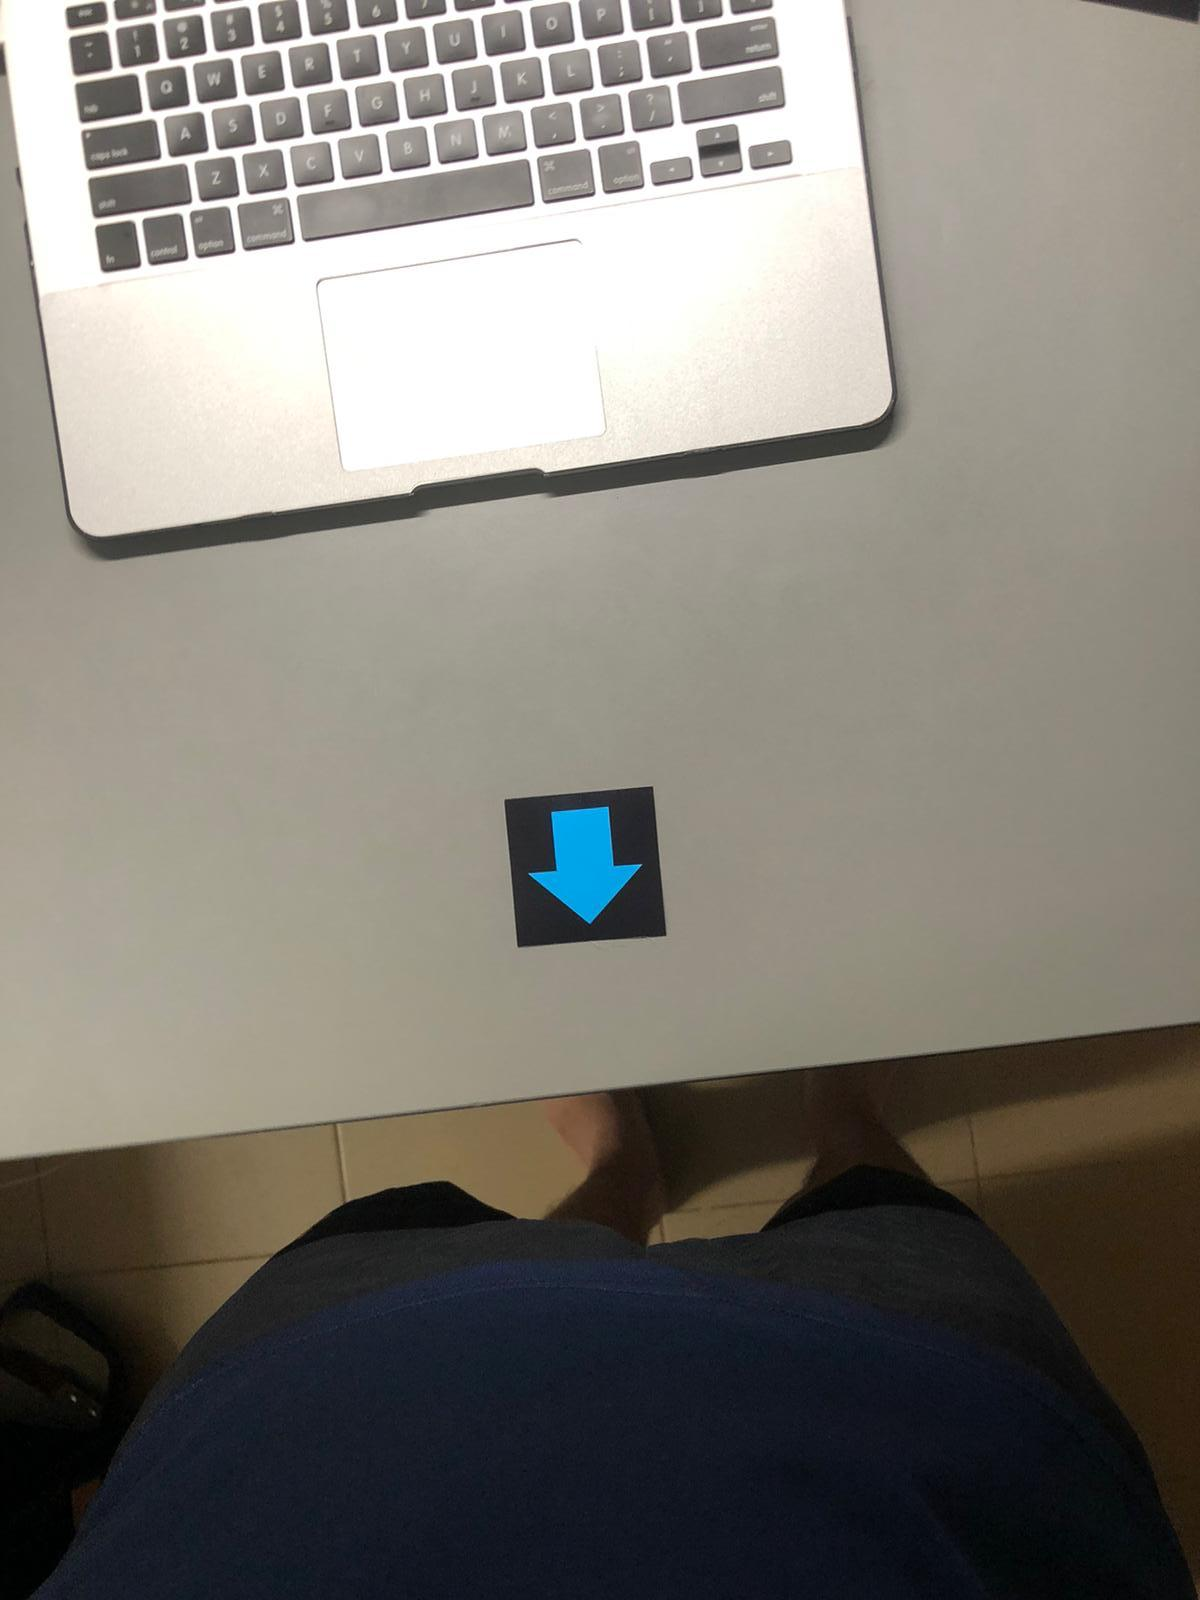Down Arrow: (508, 803, 659, 940)
